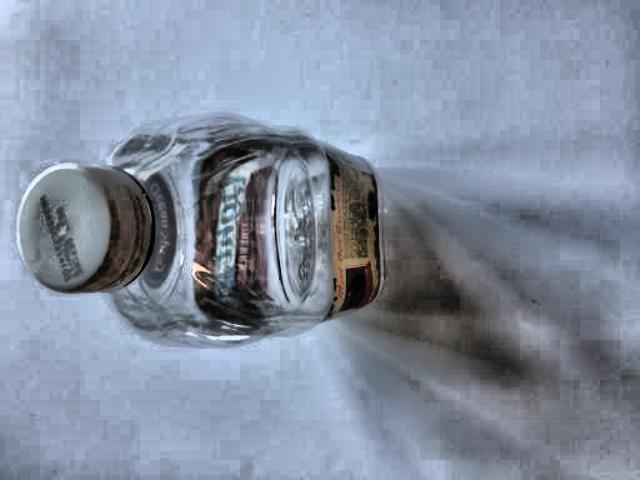Bottles: (0, 88, 410, 369)
